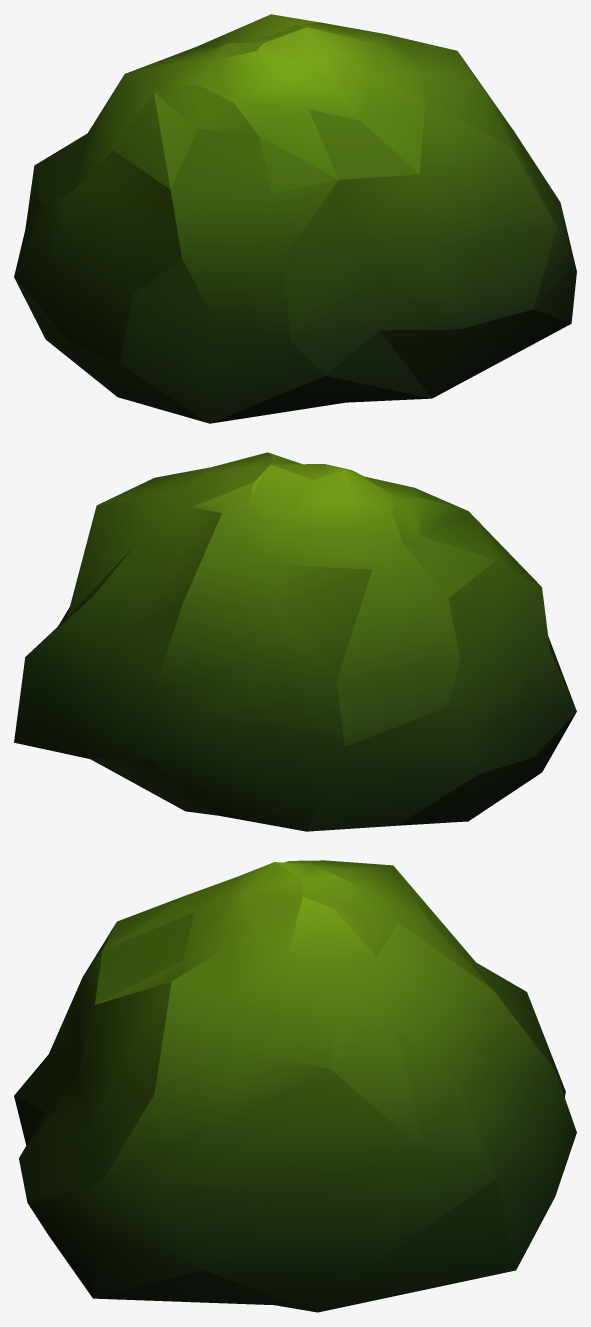
The model's file is House_Big_Leave_01_04.fbx.
The picture shows the model from 3 angles, top to bottom: view 1: azimuth 30°, elevation 25°; view 2: azimuth 150°, elevation 25°; view 3: azimuth 270°, elevation 25°; orthographic projection. The views are drawn at different scales.
Visible parts, largest first — view 1: House_Big_Leave_01_04; view 2: House_Big_Leave_01_04; view 3: House_Big_Leave_01_04.
Boxes of the visible parts, box(x1,y1,x2,y2) form: House_Big_Leave_01_04: box(14, 14, 576, 423); House_Big_Leave_01_04: box(14, 452, 576, 831); House_Big_Leave_01_04: box(14, 860, 576, 1312).
Size of the model in its own units: 3.23 by 1.95 by 3.01.
